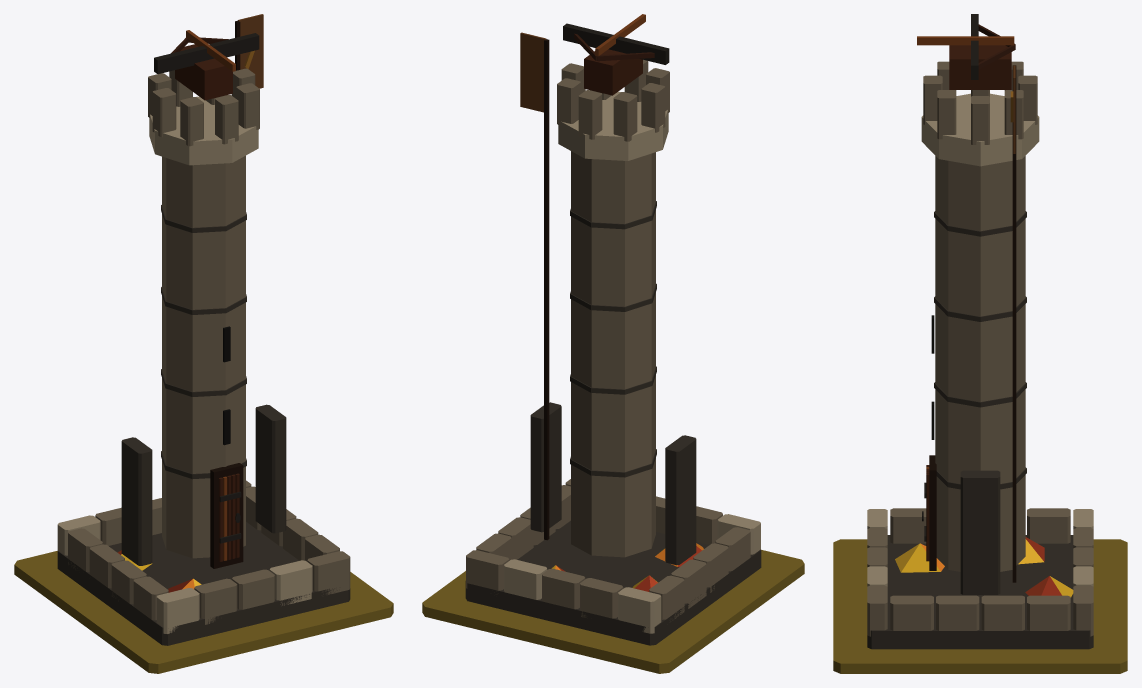
The model's file is ballista_t5.glb.
3 views of the same model, side by side, from view 1: azimuth 30°, elevation 25°; view 2: azimuth 150°, elevation 25°; view 3: azimuth 270°, elevation 25° (orthographic). The views are drawn at different scales.
Parts seen in each view (by area): view 1: MMR | ballista | T05 Architecture.001, MMR | ballista | Tier 05 Ground.001, MMR | ballista | T05 Banner Flag 1.001; view 2: MMR | ballista | T05 Architecture.001, MMR | ballista | Tier 05 Ground.001, MMR | ballista | T05 Banner Flag 1.001; view 3: MMR | ballista | T05 Architecture.001, MMR | ballista | Tier 05 Ground.001, MMR | ballista | T05 Autumn Dressing.001.
Boxes of the visible parts, x1=… form: MMR | ballista | T05 Architecture.001: x1=57, y1=20, x2=350, y2=645; MMR | ballista | Tier 05 Ground.001: x1=14, y1=551, x2=393, y2=673; MMR | ballista | T05 Banner Flag 1.001: x1=238, y1=14, x2=263, y2=88; MMR | ballista | T05 Architecture.001: x1=465, y1=14, x2=761, y2=645; MMR | ballista | Tier 05 Ground.001: x1=422, y1=549, x2=804, y2=673; MMR | ballista | T05 Banner Flag 1.001: x1=520, y1=32, x2=546, y2=112; MMR | ballista | T05 Architecture.001: x1=867, y1=14, x2=1093, y2=649; MMR | ballista | Tier 05 Ground.001: x1=833, y1=539, x2=1127, y2=673; MMR | ballista | T05 Autumn Dressing.001: x1=895, y1=537, x2=1073, y2=597.
Bounding box in the file's own units: 1.3 × 2.8 × 1.3.
1 material, 1 textured.
